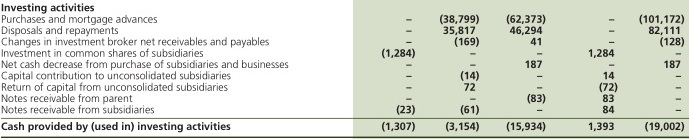column: (1, 1, 290, 139), (638, 1, 686, 138), (504, 1, 546, 139), (439, 1, 480, 138), (381, 1, 416, 139), (586, 1, 618, 139)
row: (1, 2, 690, 14), (1, 59, 690, 71), (1, 70, 690, 82), (1, 104, 690, 116), (1, 38, 690, 49), (1, 48, 690, 59), (1, 121, 690, 132), (1, 15, 690, 25), (1, 26, 690, 36), (1, 83, 690, 93), (1, 94, 690, 104)
